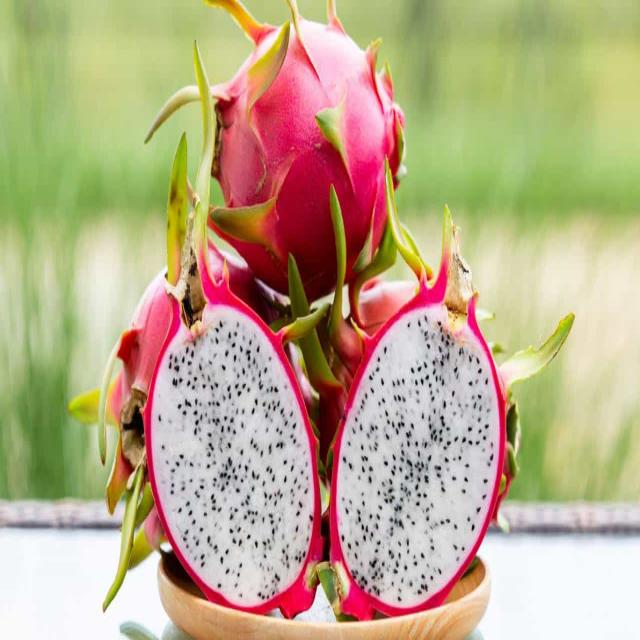organic: (328, 284, 524, 609), (196, 24, 404, 309), (146, 300, 326, 616)
